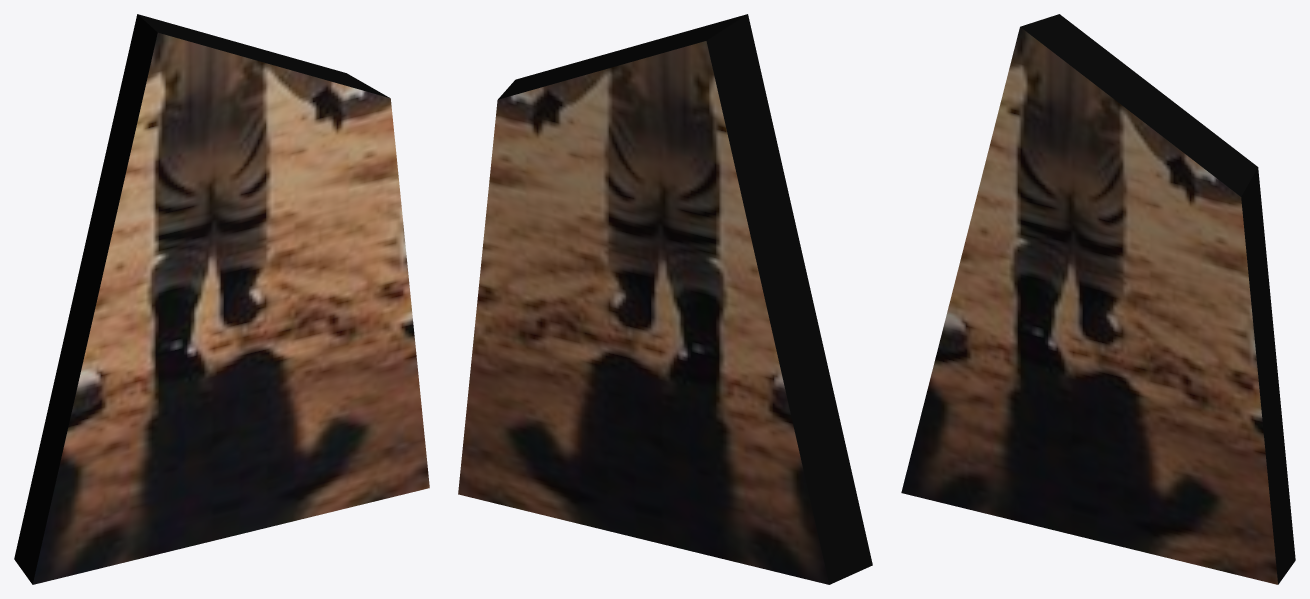
The model's file is Puzzle_2_Cell_00.glb.
3 renders of one model, left to right at view 1: azimuth 30°, elevation 25°; view 2: azimuth 150°, elevation 25°; view 3: azimuth 330°, elevation 25°, orthographic. The views are drawn at different scales.
Parts seen in each view (by area): view 1: Puzzle_1_cell.000; view 2: Puzzle_1_cell.000; view 3: Puzzle_1_cell.000.
Boxes of the visible parts, box(x1,y1,x2,y2) form: Puzzle_1_cell.000: box(14, 14, 429, 584); Puzzle_1_cell.000: box(458, 14, 872, 584); Puzzle_1_cell.000: box(901, 14, 1295, 584).
Bounding box in the file's own units: 1.11 × 1.39 × 0.15.
2 materials, 1 textured.
